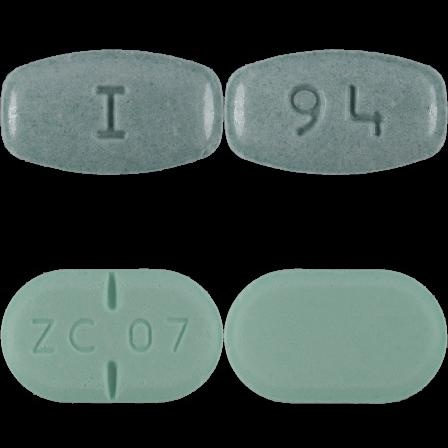60687-157: (0, 0, 224, 224)
